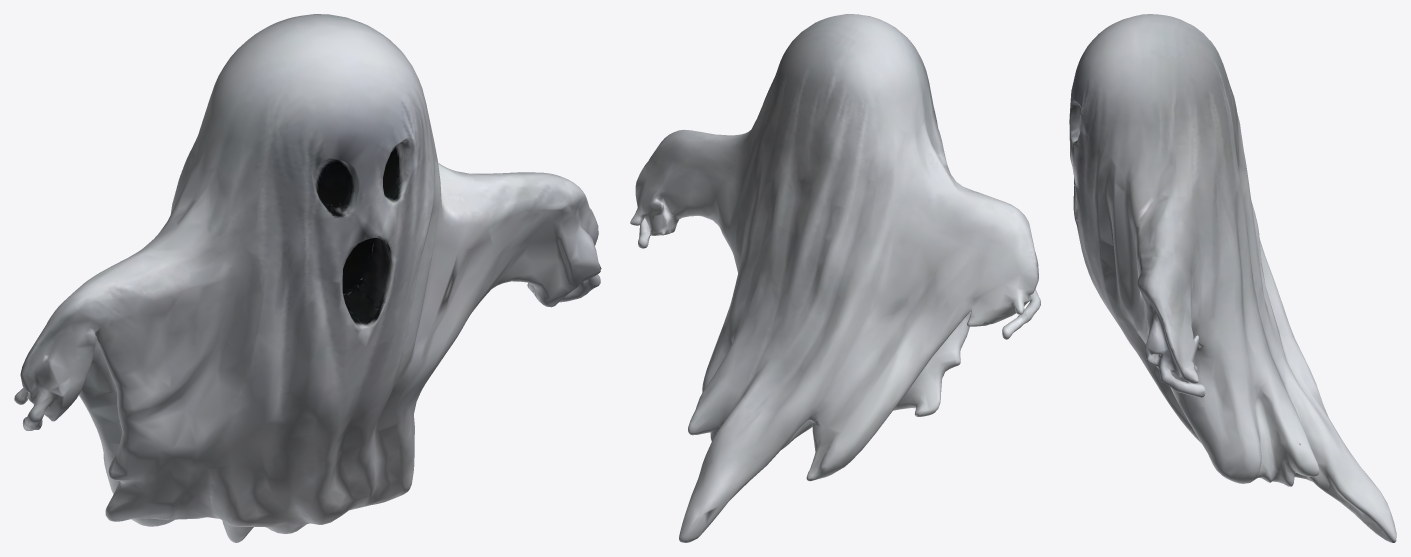
Rendered from ghost1.glb.
3 renders of one model, left to right at view 1: azimuth 30°, elevation 25°; view 2: azimuth 150°, elevation 25°; view 3: azimuth 270°, elevation 25°, orthographic. The views are drawn at different scales.
Visible parts, largest first — view 1: Object_4; view 2: Object_4; view 3: Object_4.
Boxes of the visible parts, bbox=[...] form: Object_4: bbox=[14, 14, 601, 542]; Object_4: bbox=[630, 14, 1040, 542]; Object_4: bbox=[1069, 14, 1396, 542].
Bounding box in the file's own units: 1.86 × 2 × 1.21.
1 material, 1 textured.
